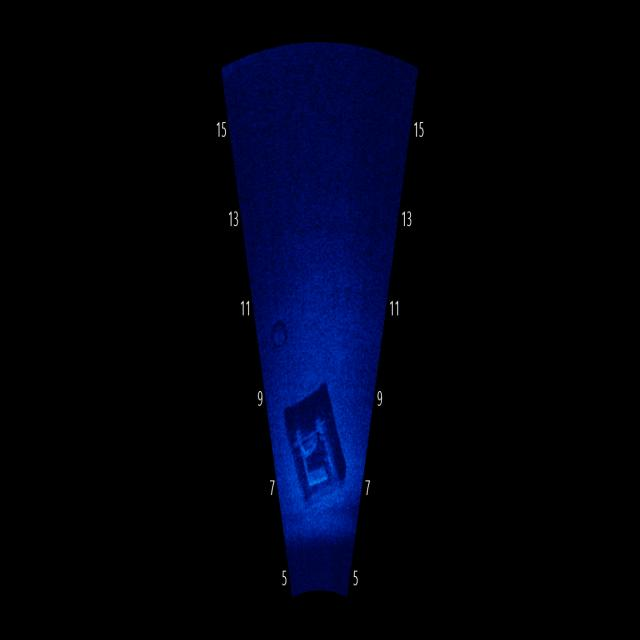circle: (266, 309, 298, 357)
square: (284, 378, 346, 516)
